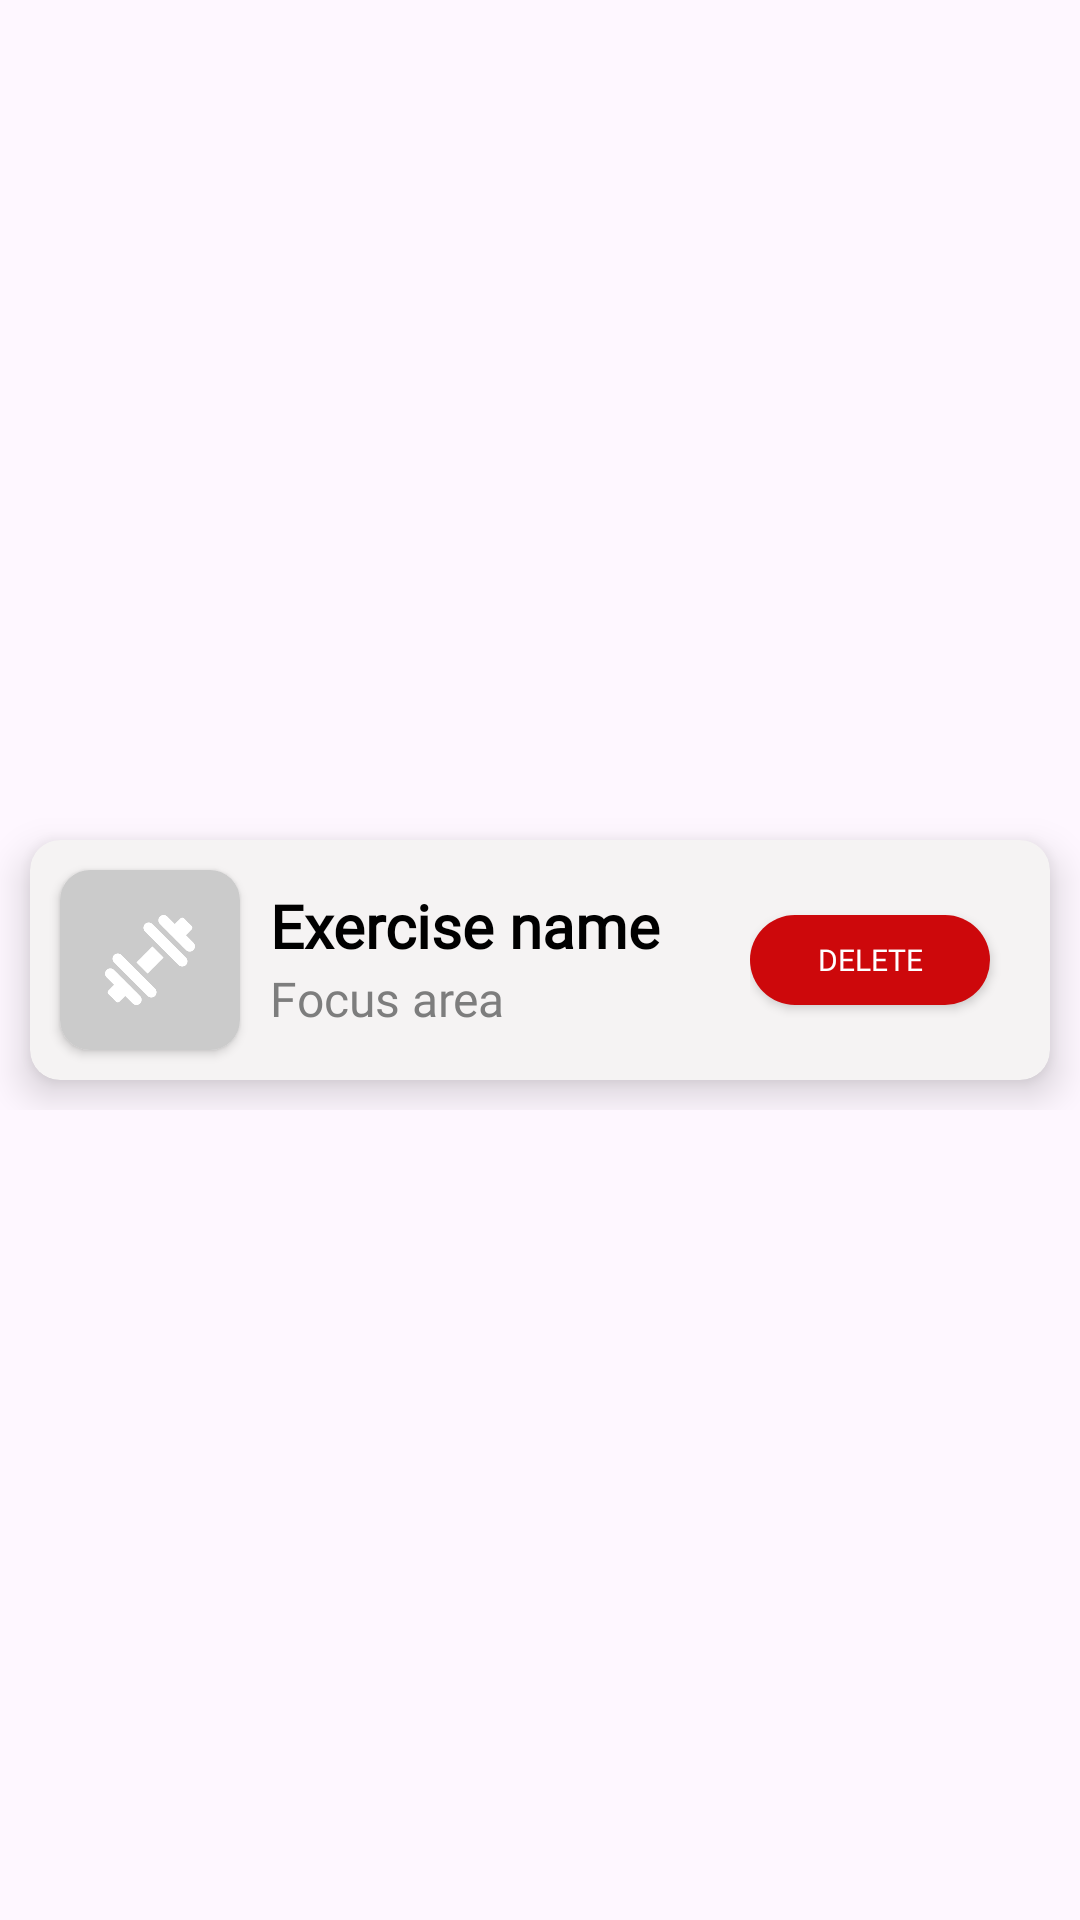

Icon click points for this 1080*1920 phone screenshot, format [x,y]:
dumbbell: [150,960]
